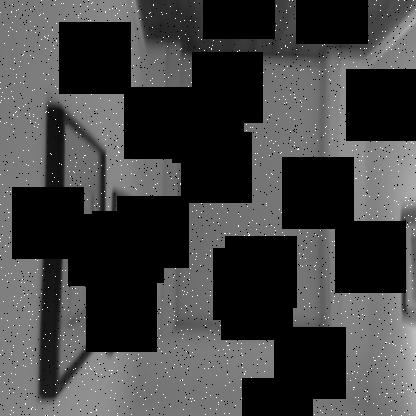Porte: (158, 40, 344, 345)
